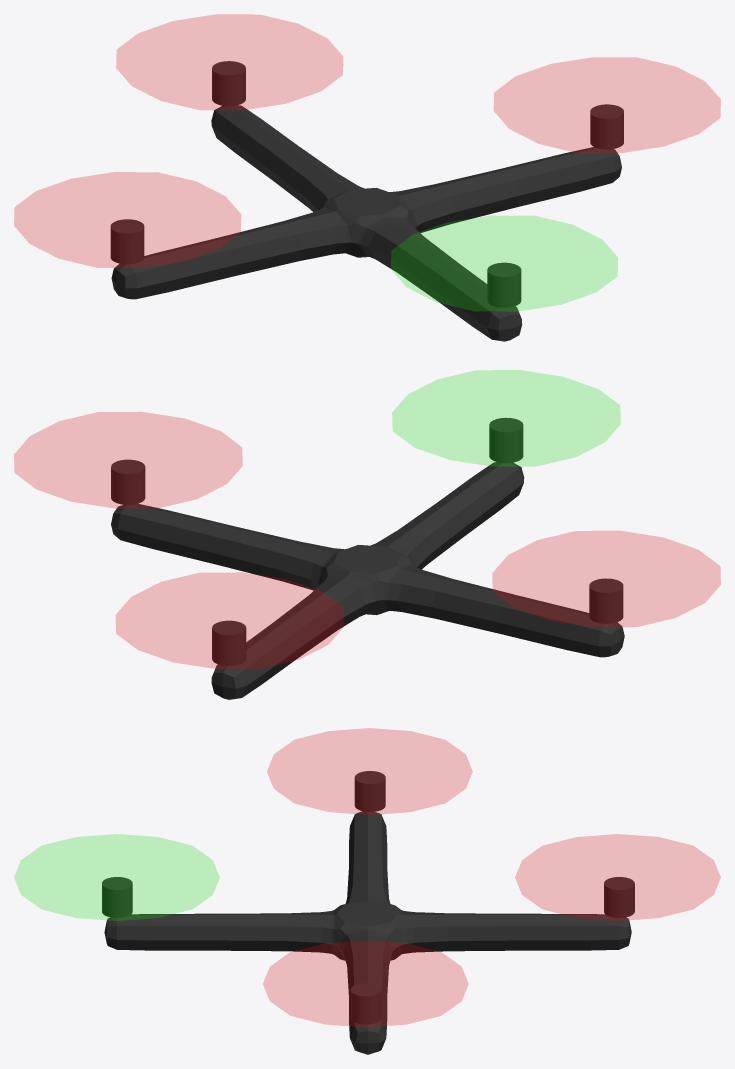
File: quadp.glb
3 renders of one model, top to bottom at view 1: azimuth 30°, elevation 25°; view 2: azimuth 150°, elevation 25°; view 3: azimuth 270°, elevation 25°, orthographic. The views are drawn at different scales.
Visible parts, largest first — view 1: Cube, Plane.003, Plane.002, Plane.001, Plane, Cylinder.003, Cylinder.001, Cylinder.002, Cylinder; view 2: Cube, Plane, Plane.003, Plane.001, Plane.002, Cylinder.003, Cylinder.001, Cylinder.002, Cylinder; view 3: Cube, Plane, Plane.001, Plane.002, Plane.003, Cylinder.002, Cylinder.003, Cylinder, Cylinder.001.
Boxes of the visible parts, x1,y1,x2,y2 form: Cube: (111,105,621,341); Plane.003: (14,172,240,267); Plane.002: (494,57,720,152); Plane.001: (116,14,342,109); Plane: (391,215,617,311); Cylinder.003: (110,219,144,264); Cylinder.001: (487,262,521,307); Cylinder.002: (590,104,623,149); Cylinder: (212,61,245,106); Cube: (111,462,624,699); Plane: (392,370,620,466); Plane.003: (492,531,720,626); Plane.001: (116,572,343,668); Plane.002: (14,412,242,507); Cylinder.003: (589,578,623,623); Cylinder.001: (489,417,523,463); Cylinder.002: (111,459,145,504); Cylinder: (212,620,246,665); Cube: (104,811,631,1054); Plane: (14,834,219,920); Plane.001: (515,834,720,920); Plane.002: (263,940,467,1026); Plane.003: (267,728,472,814); Cylinder.002: (350,983,381,1024); Cylinder.003: (354,771,385,811); Cylinder: (604,877,634,917); Cylinder.001: (102,877,132,917).
Size of the model in its own units: 3.1 by 0.3559 by 3.1.
